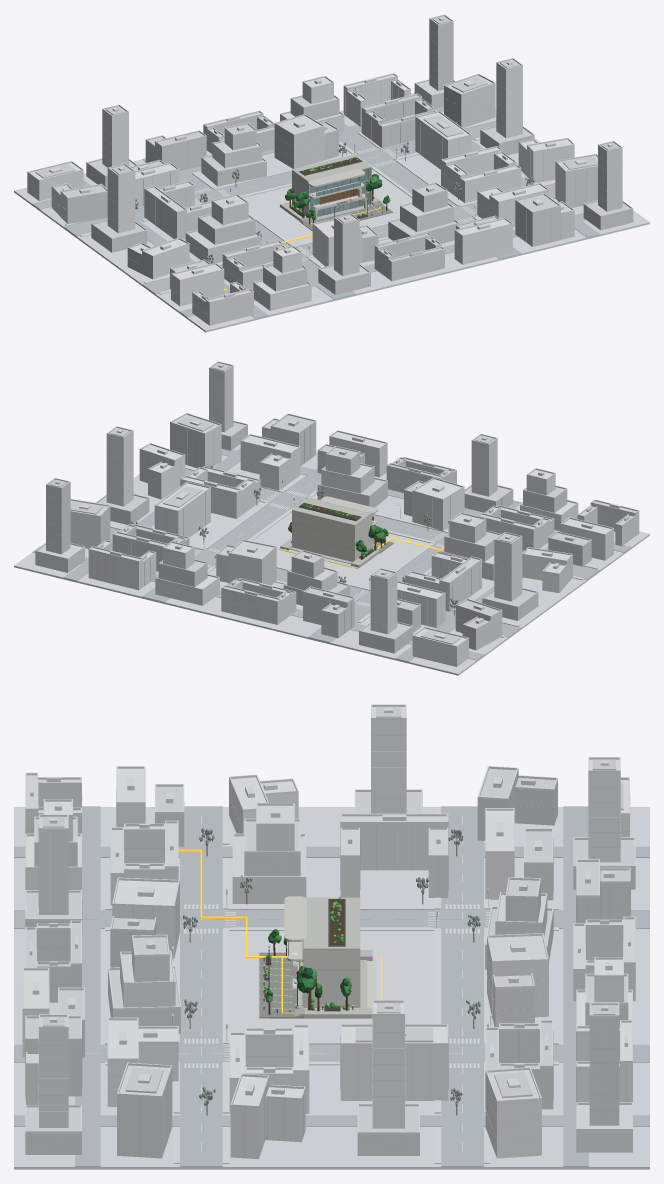
Rendered from hospital_overview.glb.
3 renders of one model, top to bottom at view 1: azimuth 30°, elevation 25°; view 2: azimuth 150°, elevation 25°; view 3: azimuth 270°, elevation 25°, orthographic. The views are drawn at different scales.
Parts seen in each view (by area): view 1: CTX_ground, BLDG_017_STEP, BLDG_014_TOWER, BLDG_019_TOWER, BLDG_020_COURTYARD, BLDG_010_STEP, BLDG_011_WEDGE, BLDG_034_TOWER, BLDG_025_STEP, CTX_road_h_north, BLDG_029_STEP, BLDG_030_TOWER (+35 smaller); view 2: CTX_ground, BLDG_019_TOWER, BLDG_014_TOWER, BLDG_002_TOWER, BLDG_007_TOWER, BLDG_005_STEP, BLDG_025_STEP, CTX_road_v_east, Back_Exterior_Wall, BLDG_030_TOWER, BLDG_026_L, BLDG_024_WEDGE (+36 smaller); view 3: CTX_ground, CTX_road_h_south, CTX_road_h_north, CTX_road_h_outer_s, CTX_Raised_Sidewalks, BLDG_015_U, BLDG_019_TOWER, BLDG_017_STEP, BLDG_018_SLAB, BLDG_007_TOWER, BLDG_034_TOWER, CTX_road_h_outer_n (+38 smaller).
Boxes of the visible parts, x1,y1,x2,y2 form: CTX_ground: (14, 93, 649, 332); BLDG_017_STEP: (185, 196, 261, 263); BLDG_014_TOWER: (91, 165, 147, 252); BLDG_019_TOWER: (480, 59, 534, 155); BLDG_020_COURTYARD: (441, 147, 521, 203); BLDG_010_STEP: (201, 124, 266, 186); BLDG_011_WEDGE: (274, 115, 339, 168); BLDG_034_TOWER: (583, 142, 633, 230); BLDG_025_STEP: (388, 184, 459, 243); CTX_road_h_north: (64, 121, 496, 236); BLDG_029_STEP: (253, 247, 311, 310); BLDG_030_TOWER: (318, 215, 370, 294); CTX_ground: (14, 444, 649, 675); BLDG_019_TOWER: (98, 428, 149, 524); BLDG_014_TOWER: (482, 533, 538, 620); BLDG_002_TOWER: (359, 570, 413, 653); BLDG_007_TOWER: (35, 479, 84, 572); BLDG_005_STEP: (155, 543, 219, 605); BLDG_025_STEP: (317, 447, 387, 507); CTX_road_v_east: (142, 468, 321, 602); Back_Exterior_Wall: (292, 510, 354, 561); BLDG_030_TOWER: (464, 435, 513, 512); BLDG_026_L: (240, 435, 300, 490); BLDG_024_WEDGE: (404, 479, 464, 531); CTX_ground: (14, 807, 649, 1169); CTX_road_h_south: (180, 806, 222, 1166); CTX_road_h_north: (441, 806, 483, 1166); CTX_road_h_outer_s: (75, 806, 100, 1166); CTX_Raised_Sidewalks: (105, 807, 558, 1163); BLDG_015_U: (340, 816, 448, 897); BLDG_019_TOWER: (357, 1002, 419, 1155); BLDG_017_STEP: (232, 805, 306, 903); BLDG_018_SLAB: (340, 1026, 448, 1100); BLDG_007_TOWER: (576, 1005, 632, 1152); BLDG_034_TOWER: (25, 1016, 81, 1154); CTX_road_h_outer_n: (563, 806, 588, 1166).
Size of the model in its own units: 120 by 22.14 by 89.6.
